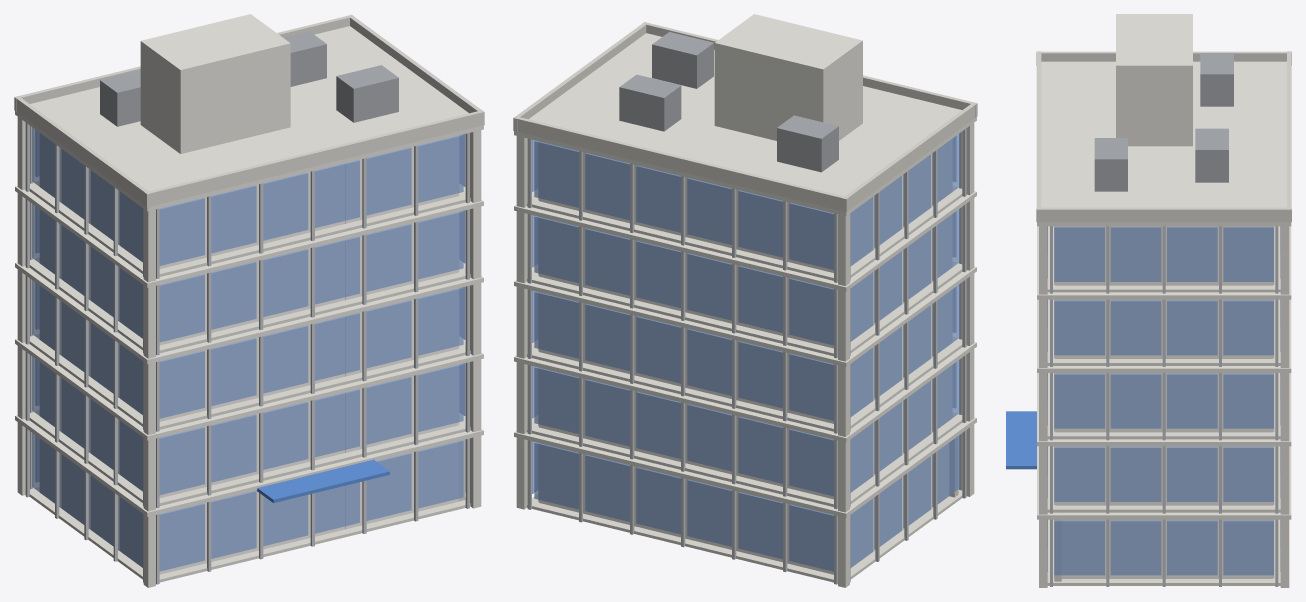
The model's file is sunrise-office.glb.
The picture shows the model from 3 angles, left to right: view 1: azimuth 30°, elevation 25°; view 2: azimuth 150°, elevation 25°; view 3: azimuth 270°, elevation 25°; orthographic projection. The views are drawn at different scales.
Parts seen in each view (by area): view 1: shell_roof, shell_penthouse, wall_room_4_1_1, wall_room_3_1_1, wall_room_1_1_1, wall_room_2_1_1, wall_room_0_1_1, wall_room_2_5_1, wall_room_4_5_1, wall_room_3_5_1, wall_room_1_5_1, wall_room_0_5_1 (+98 smaller); view 2: shell_roof, shell_penthouse, wall_room_2_0_0, wall_room_1_0_0, wall_room_0_0_0, wall_room_3_0_0, wall_room_4_0_0, shell_parapet_b, wall_room_3_2_0, wall_room_1_2_0, wall_room_4_2_0, wall_room_0_2_0 (+97 smaller); view 3: shell_roof, shell_penthouse, wall_room_1_5_3, wall_room_4_5_3, wall_room_2_5_3, wall_room_3_5_3, wall_room_0_3_3, wall_room_1_3_3, wall_room_2_3_3, wall_room_3_3_3, wall_room_4_3_3, wall_room_0_5_3 (+46 smaller).
Boxes of the visible parts, left/top/right/bottom form: shell_roof: left=30, top=26, right=468, bottom=191; shell_penthouse: left=140, top=14, right=290, bottom=153; wall_room_4_1_1: left=159, top=175, right=296, bottom=268; wall_room_3_1_1: left=159, top=252, right=296, bottom=345; wall_room_1_1_1: left=159, top=404, right=296, bottom=497; wall_room_2_1_1: left=159, top=328, right=296, bottom=421; wall_room_0_1_1: left=159, top=490, right=296, bottom=574; wall_room_2_5_1: left=345, top=288, right=458, bottom=376; wall_room_4_5_1: left=345, top=136, right=458, bottom=223; wall_room_3_5_1: left=345, top=212, right=458, bottom=300; wall_room_1_5_1: left=345, top=365, right=458, bottom=452; wall_room_0_5_1: left=345, top=441, right=458, bottom=529; shell_roof: left=529, top=33, right=961, bottom=196; shell_penthouse: left=714, top=14, right=862, bottom=140; wall_room_2_0_0: left=699, top=331, right=833, bottom=423; wall_room_1_0_0: left=699, top=407, right=833, bottom=499; wall_room_0_0_0: left=699, top=482, right=833, bottom=574; wall_room_3_0_0: left=699, top=256, right=833, bottom=348; wall_room_4_0_0: left=699, top=181, right=833, bottom=272; shell_parapet_b: left=513, top=116, right=848, bottom=211; wall_room_3_2_0: left=615, top=235, right=699, bottom=315; wall_room_1_2_0: left=615, top=386, right=699, bottom=466; wall_room_4_2_0: left=615, top=160, right=699, bottom=239; wall_room_0_2_0: left=615, top=462, right=699, bottom=541; shell_roof: left=1041, top=61, right=1286, bottom=207; shell_penthouse: left=1116, top=14, right=1192, bottom=146; wall_room_1_5_3: left=1055, top=446, right=1166, bottom=505; wall_room_4_5_3: left=1055, top=226, right=1166, bottom=285; wall_room_2_5_3: left=1055, top=373, right=1166, bottom=432; wall_room_3_5_3: left=1055, top=299, right=1166, bottom=358; wall_room_0_3_3: left=1167, top=519, right=1272, bottom=578; wall_room_1_3_3: left=1167, top=446, right=1272, bottom=505; wall_room_2_3_3: left=1167, top=373, right=1272, bottom=432; wall_room_3_3_3: left=1167, top=299, right=1272, bottom=358; wall_room_4_3_3: left=1167, top=226, right=1272, bottom=285; wall_room_0_5_3: left=1061, top=519, right=1166, bottom=578.
Size of what is drawn, in the model's own units: 14.8 by 19.72 by 11.3.
